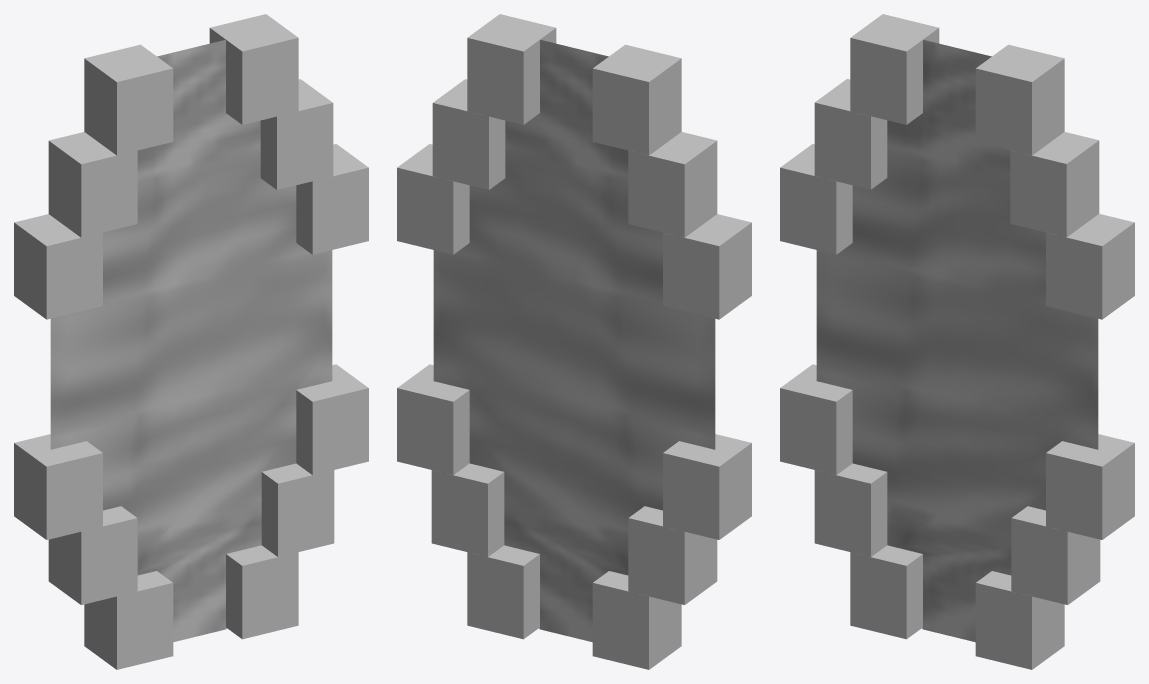
Rendered from rift3.obj.
The picture shows the model from 3 angles, left to right: view 1: azimuth 30°, elevation 25°; view 2: azimuth 150°, elevation 25°; view 3: azimuth 330°, elevation 25°; orthographic projection.
Visible parts, largest first — view 1: Plane_Plane.003, Cube.001, Cube.009_Cube.010, Cube.003_Cube.004, Cube.011_Cube.012, Cube, Cube.006_Cube.007, Cube.007_Cube.008, Cube.010_Cube.011, Cube.005_Cube.006, Cube.004_Cube.005, Cube.002_Cube.003 (+1 smaller); view 2: Plane_Plane.003, Cube.001, Cube.009_Cube.010, Cube.003_Cube.004, Cube.011_Cube.012, Cube, Cube.006_Cube.007, Cube.007_Cube.008, Cube.010_Cube.011, Cube.005_Cube.006, Cube.004_Cube.005, Cube.002_Cube.003 (+1 smaller); view 3: Plane_Plane.003, Cube, Cube.010_Cube.011, Cube.002_Cube.003, Cube.008_Cube.009, Cube.001, Cube.004_Cube.005, Cube.005_Cube.006, Cube.009_Cube.010, Cube.007_Cube.008, Cube.003_Cube.004, Cube.006_Cube.007 (+1 smaller).
Part boxes in pixels (left/top/right/bottom): Plane_Plane.003: left=50, top=39, right=332, bottom=642; Cube.001: left=84, top=44, right=173, bottom=155; Cube.009_Cube.010: left=14, top=434, right=102, bottom=539; Cube.003_Cube.004: left=48, top=132, right=137, bottom=237; Cube.011_Cube.012: left=14, top=214, right=102, bottom=319; Cube: left=209, top=14, right=298, bottom=124; Cube.006_Cube.007: left=84, top=571, right=173, bottom=669; Cube.007_Cube.008: left=48, top=506, right=137, bottom=604; Cube.010_Cube.011: left=296, top=364, right=368, bottom=475; Cube.005_Cube.006: left=261, top=463, right=334, bottom=556; Cube.004_Cube.005: left=226, top=545, right=298, bottom=639; Cube.002_Cube.003: left=260, top=79, right=333, bottom=189; Plane_Plane.003: left=433, top=39, right=715, bottom=642; Cube.001: left=592, top=44, right=681, bottom=155; Cube.009_Cube.010: left=663, top=434, right=751, bottom=539; Cube.003_Cube.004: left=628, top=132, right=717, bottom=237; Cube.011_Cube.012: left=663, top=214, right=751, bottom=319; Cube: left=467, top=14, right=556, bottom=124; Cube.006_Cube.007: left=592, top=571, right=681, bottom=669; Cube.007_Cube.008: left=628, top=506, right=717, bottom=604; Cube.010_Cube.011: left=397, top=364, right=469, bottom=475; Cube.005_Cube.006: left=431, top=463, right=504, bottom=556; Cube.004_Cube.005: left=467, top=545, right=539, bottom=639; Cube.002_Cube.003: left=432, top=79, right=505, bottom=189; Plane_Plane.003: left=816, top=39, right=1098, bottom=642; Cube: left=975, top=44, right=1064, bottom=155; Cube.010_Cube.011: left=1046, top=434, right=1134, bottom=539; Cube.002_Cube.003: left=1010, top=132, right=1099, bottom=237; Cube.008_Cube.009: left=1046, top=213, right=1134, bottom=319; Cube.001: left=850, top=14, right=939, bottom=124; Cube.004_Cube.005: left=975, top=571, right=1064, bottom=669; Cube.005_Cube.006: left=1011, top=506, right=1100, bottom=604; Cube.009_Cube.010: left=780, top=364, right=852, bottom=475; Cube.007_Cube.008: left=814, top=463, right=887, bottom=556; Cube.003_Cube.004: left=814, top=79, right=887, bottom=189; Cube.006_Cube.007: left=850, top=545, right=922, bottom=639.
Size of the model in its own units: 1.14 by 2 by 0.2.
